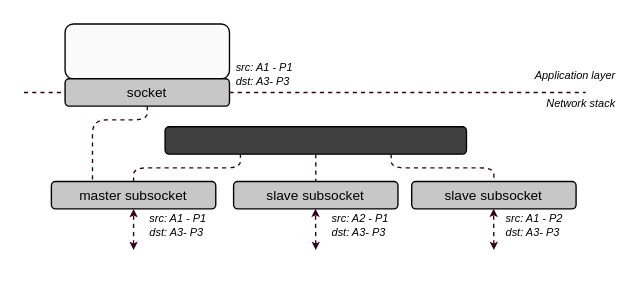
The diagram is 641 pixels wide and 282 high, and some of its shapes have lost their labels. Each missing label, with the centre of its shape:
"Application 1" belongs at pixel 146 51.
"meta-socket (multipath control block)" belongs at pixel 315 139.
